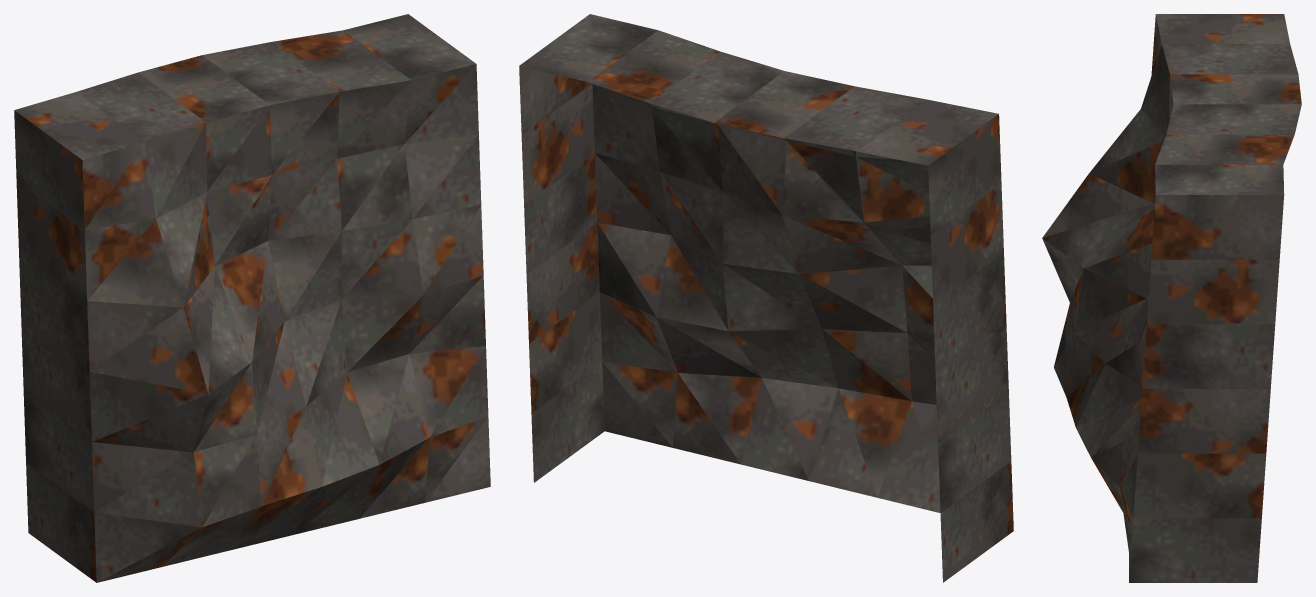
The model's file is SM_cliff.fbx.
3 renders of one model, left to right at view 1: azimuth 30°, elevation 25°; view 2: azimuth 150°, elevation 25°; view 3: azimuth 270°, elevation 25°, orthographic. The views are drawn at different scales.
Visible parts, largest first — view 1: cliff; view 2: cliff; view 3: cliff.
Boxes of the visible parts, bbox=[...] form: cliff: bbox=[14, 14, 490, 582]; cliff: bbox=[519, 14, 1013, 582]; cliff: bbox=[1042, 14, 1301, 582].
Bounding box in the file's own units: 4 × 4 × 2.43.
